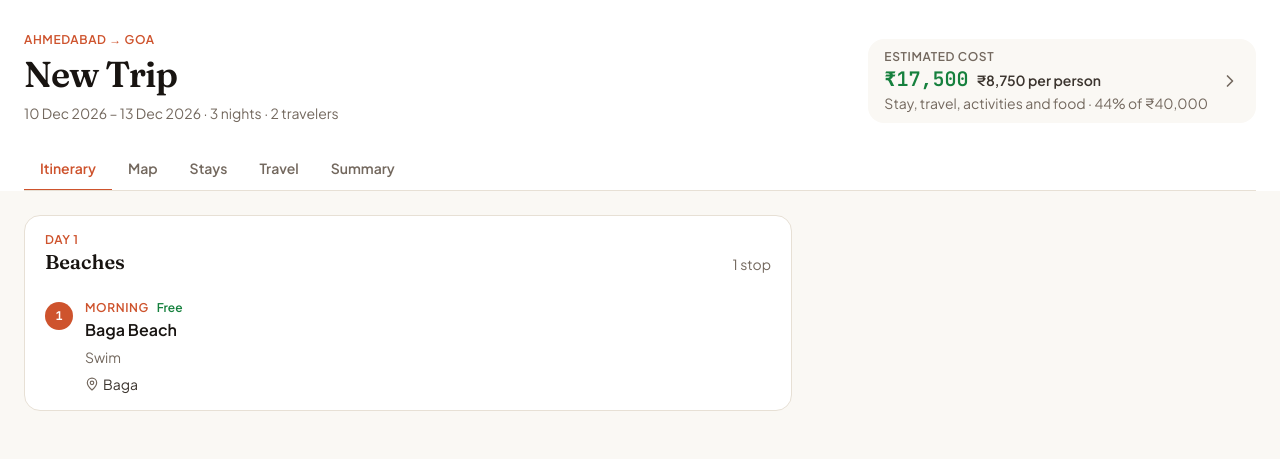
Test: Trip plan layout › switches sections with one tab group
Click the button "Stays" at (209,169), box [174,147,244,191]
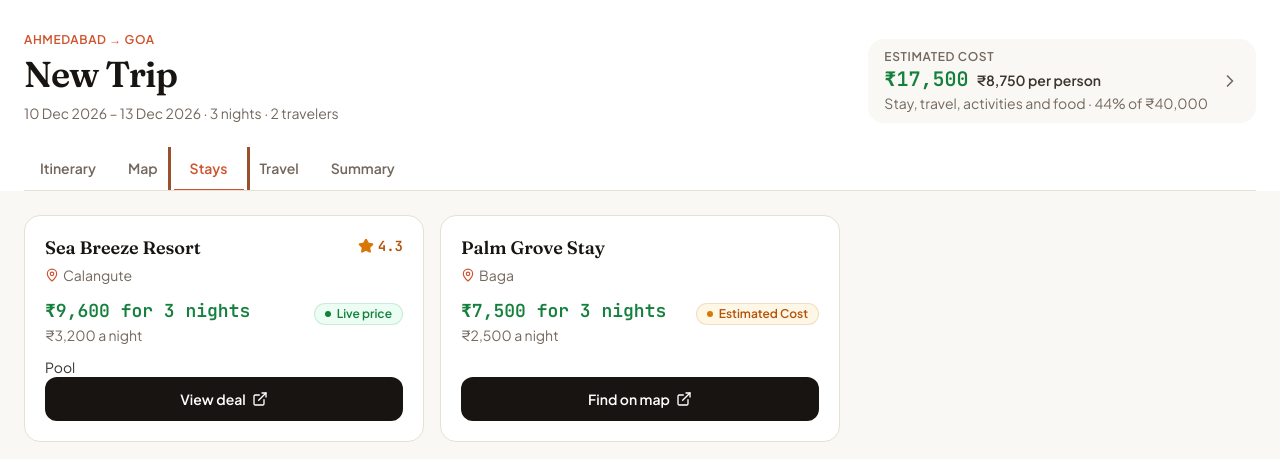
expect the element named "Trip sections" is shown: met, box [24,147,1256,191]
expect the element with test id "hotel-Sea Breeze Resort" is shown: met, box [24,215,424,442]
